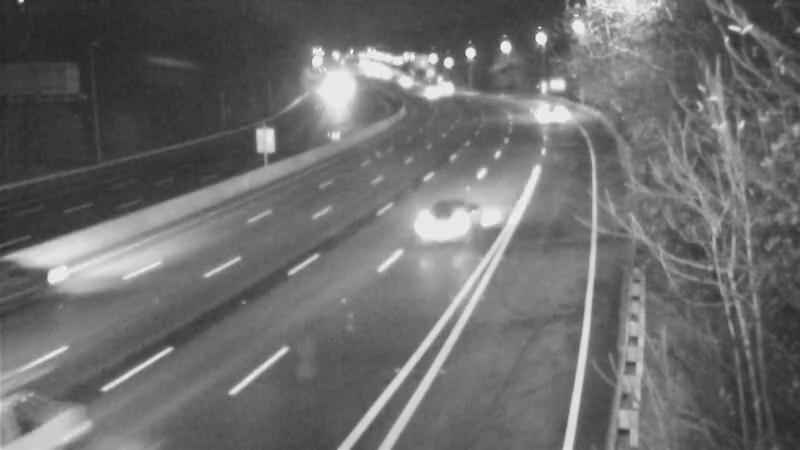vehicle: (1, 356, 92, 450), (401, 184, 481, 264), (1, 239, 66, 319), (405, 66, 455, 116), (520, 88, 570, 138)
